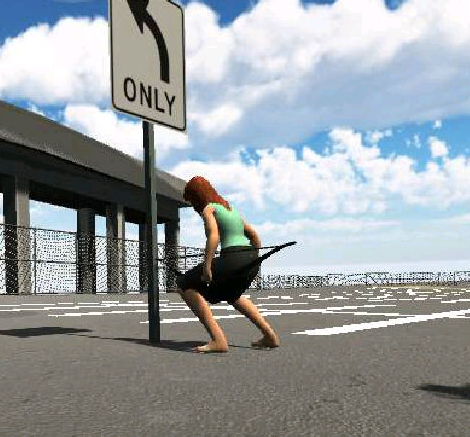arrow_left: (121, 1, 175, 83)
